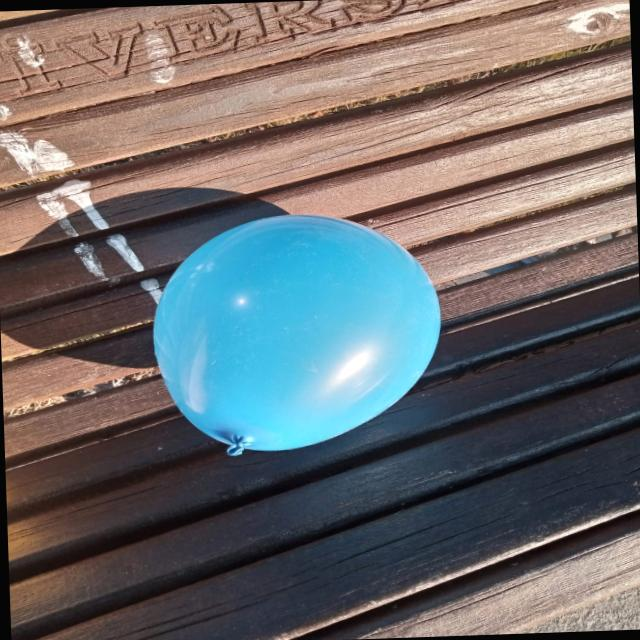balloon: (153, 215, 440, 455)
